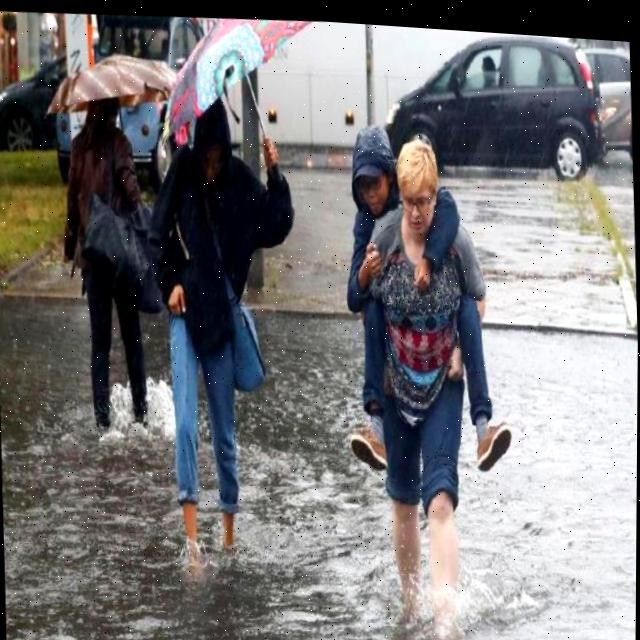civilian: (135, 82, 317, 582), (345, 122, 507, 638), (331, 114, 527, 491), (52, 78, 162, 457)
